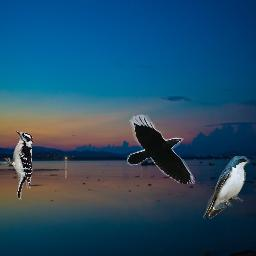Crow: (127, 114, 195, 184)
Swallow: (203, 156, 250, 219)
Woodpecker: (1, 130, 33, 200)
